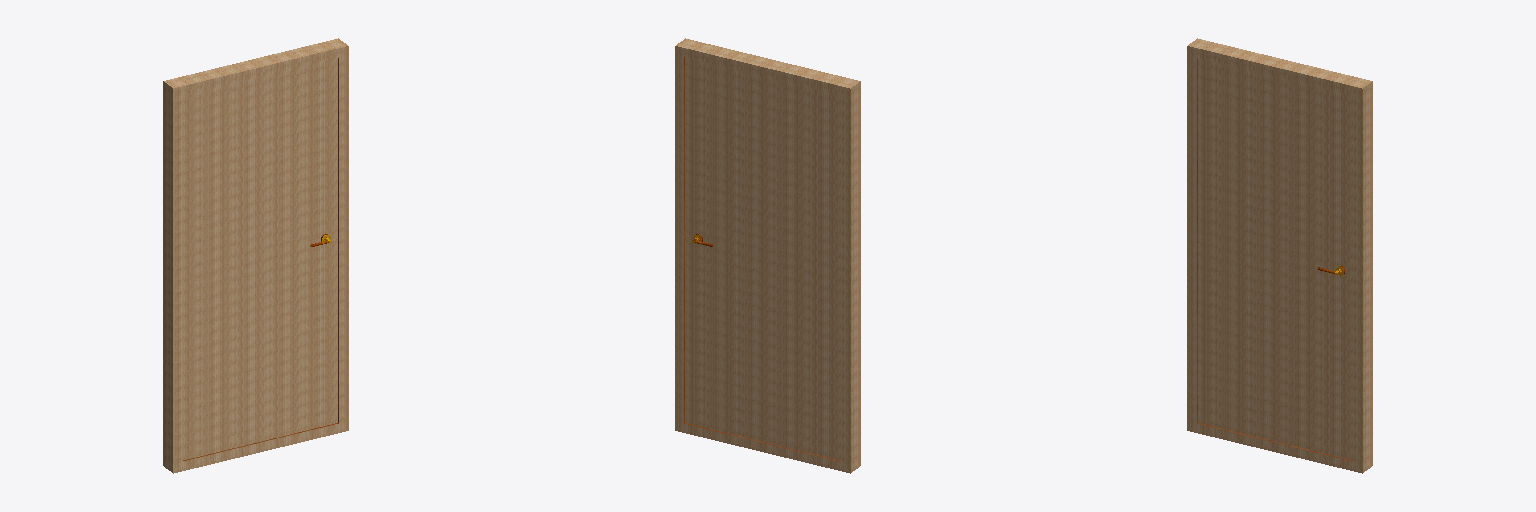
3 views of the same model, side by side, from view 1: azimuth 30°, elevation 25°; view 2: azimuth 150°, elevation 25°; view 3: azimuth 330°, elevation 25° (orthographic).
Visible parts, largest first — view 1: Mesh1 Model; view 2: Mesh1 Model; view 3: Mesh1 Model.
Boxes of the visible parts, box(x1,y1,x2,y2) form: Mesh1 Model: box(163, 38, 348, 473); Mesh1 Model: box(675, 38, 860, 473); Mesh1 Model: box(1187, 38, 1372, 473).
Bounding box in the file's own units: 1 × 2.1 × 0.18.
Materials: 4 (3 with a texture image).